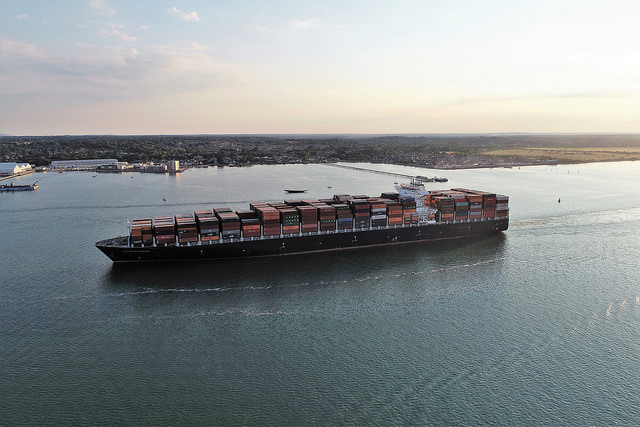container_ship: (96, 180, 509, 264)
